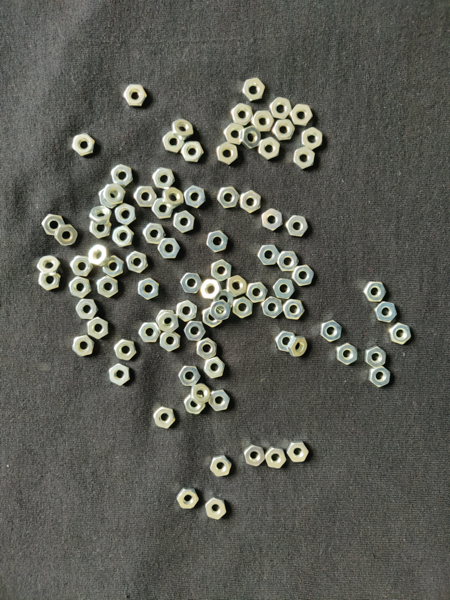nut: (242, 78, 266, 102), (124, 84, 148, 107), (72, 133, 95, 157), (152, 167, 176, 190), (54, 224, 78, 247), (290, 104, 313, 127), (286, 215, 309, 238), (111, 164, 134, 187), (103, 183, 126, 206), (126, 251, 149, 274), (374, 302, 398, 324), (153, 408, 177, 430), (270, 97, 292, 120), (231, 104, 254, 126), (294, 147, 316, 170), (217, 142, 239, 165), (112, 226, 135, 248), (42, 214, 65, 236), (143, 223, 166, 245), (292, 265, 315, 287), (102, 255, 124, 278), (69, 277, 92, 299), (138, 278, 160, 301), (320, 320, 342, 343), (226, 275, 248, 298), (209, 300, 232, 322), (114, 339, 137, 361), (287, 441, 310, 463), (244, 444, 266, 467), (251, 110, 275, 131), (259, 137, 280, 161), (181, 141, 205, 162), (134, 186, 158, 207), (70, 256, 94, 277), (37, 255, 61, 276), (163, 131, 185, 153), (218, 186, 240, 208), (184, 186, 206, 208), (162, 187, 184, 209), (88, 245, 110, 267), (72, 335, 94, 357), (262, 296, 284, 318), (109, 364, 131, 386), (204, 357, 226, 379), (209, 390, 231, 412), (240, 127, 261, 150), (207, 230, 228, 253), (88, 317, 109, 340), (211, 259, 232, 282), (180, 273, 203, 294), (337, 343, 358, 366), (365, 346, 386, 369), (158, 311, 179, 334), (211, 455, 232, 478), (206, 497, 227, 520), (241, 190, 261, 214), (302, 128, 323, 150), (172, 119, 194, 140), (262, 209, 283, 231), (152, 198, 174, 219), (115, 203, 136, 225), (174, 211, 195, 233), (158, 238, 180, 259), (258, 245, 280, 266), (277, 251, 299, 272), (98, 276, 119, 298), (76, 299, 98, 320), (390, 323, 412, 344), (283, 299, 305, 320), (246, 282, 268, 303), (233, 297, 254, 319), (266, 447, 287, 469), (177, 488, 199, 509), (89, 205, 112, 225), (273, 279, 296, 299), (369, 366, 390, 387), (201, 279, 222, 300), (273, 120, 295, 140), (364, 282, 386, 302), (214, 289, 234, 311), (184, 321, 206, 341), (139, 323, 161, 343), (197, 338, 217, 360), (178, 366, 200, 386), (192, 384, 212, 406), (184, 395, 206, 415), (99, 188, 119, 209), (288, 336, 308, 357), (276, 331, 296, 352), (203, 307, 223, 328), (177, 301, 197, 322), (38, 273, 61, 291), (225, 124, 245, 144), (160, 332, 180, 352), (90, 221, 112, 239), (156, 311, 175, 326)
